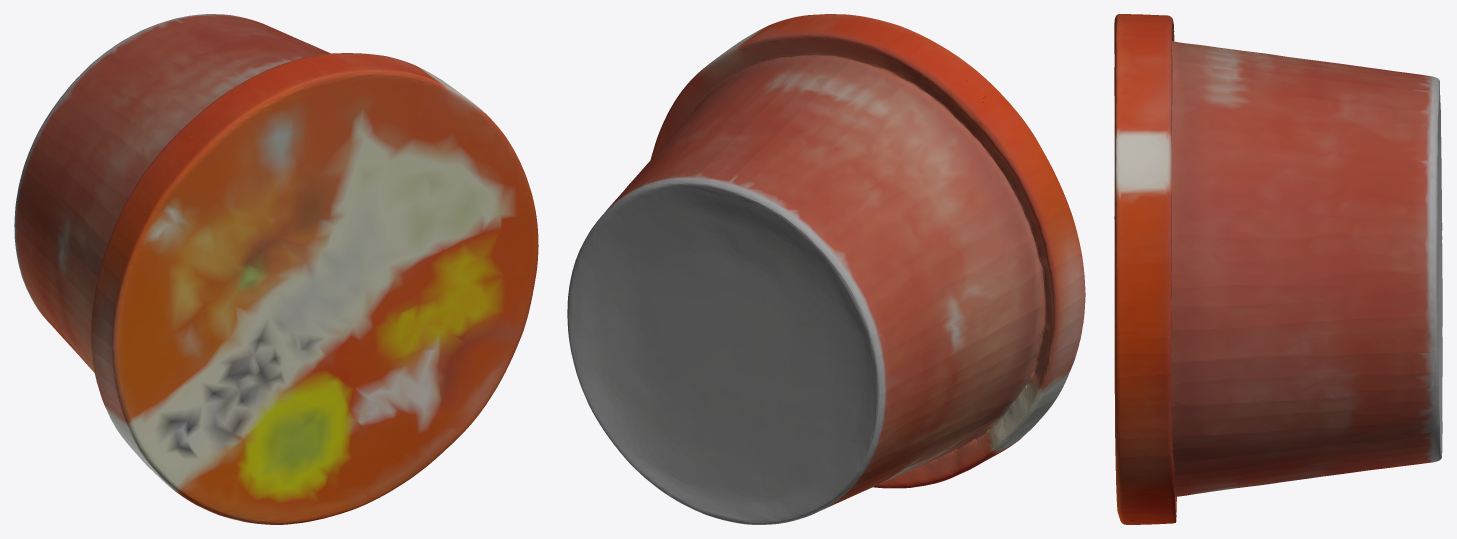
The picture shows the model from 3 angles, left to right: view 1: azimuth 30°, elevation 25°; view 2: azimuth 150°, elevation 25°; view 3: azimuth 270°, elevation 25°; orthographic projection. The views are drawn at different scales.
Parts seen in each view (by area): view 1: world; view 2: world; view 3: world.
Part boxes in pixels (box(x1,y1,x2,y2)): world: box(14, 14, 538, 524); world: box(567, 14, 1085, 524); world: box(1114, 14, 1442, 524).
Bounding box in the file's own units: 0.1317 × 0.1328 × 0.0851.
